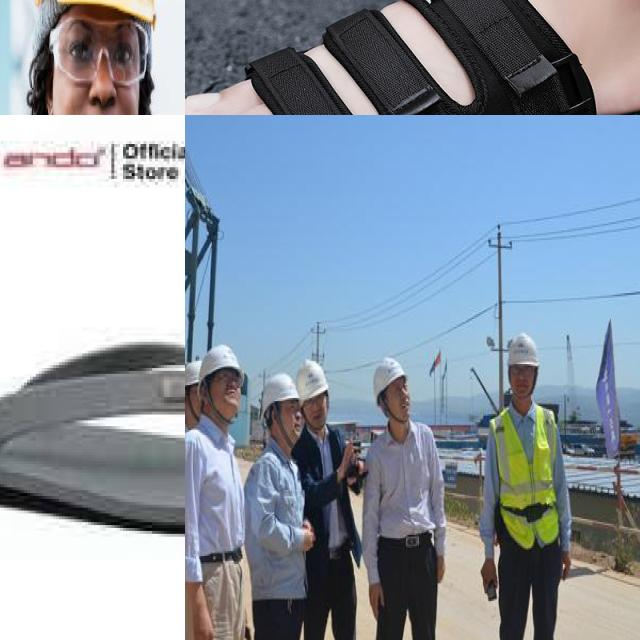Ear-protection: (41, 27, 152, 87)
Sandals: (0, 277, 185, 636), (185, 0, 640, 115)
face_nomask: (206, 367, 242, 424), (380, 376, 420, 420), (272, 398, 303, 449), (508, 364, 538, 401), (303, 392, 329, 428)
hand_noglove: (335, 444, 362, 490), (189, 602, 218, 640), (479, 558, 502, 594), (365, 582, 386, 620), (302, 521, 316, 559), (433, 554, 447, 588), (558, 551, 572, 579)
head_helmet: (294, 354, 328, 400), (369, 356, 407, 393), (506, 330, 542, 364), (259, 372, 296, 403), (201, 342, 239, 368), (185, 361, 201, 385)
person: (484, 330, 565, 640), (368, 359, 449, 640), (0, 0, 185, 115), (297, 362, 366, 640), (190, 343, 246, 640), (195, 346, 245, 640), (251, 372, 301, 640)
vest: (496, 410, 559, 544)
